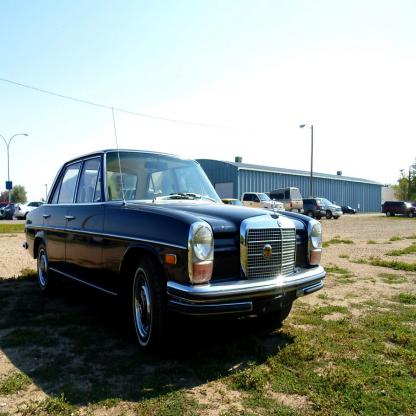Car: (21, 104, 325, 356), (381, 200, 416, 218), (15, 198, 44, 219), (303, 198, 327, 216), (324, 196, 342, 218), (221, 196, 245, 205), (4, 201, 18, 216), (342, 205, 358, 213)
